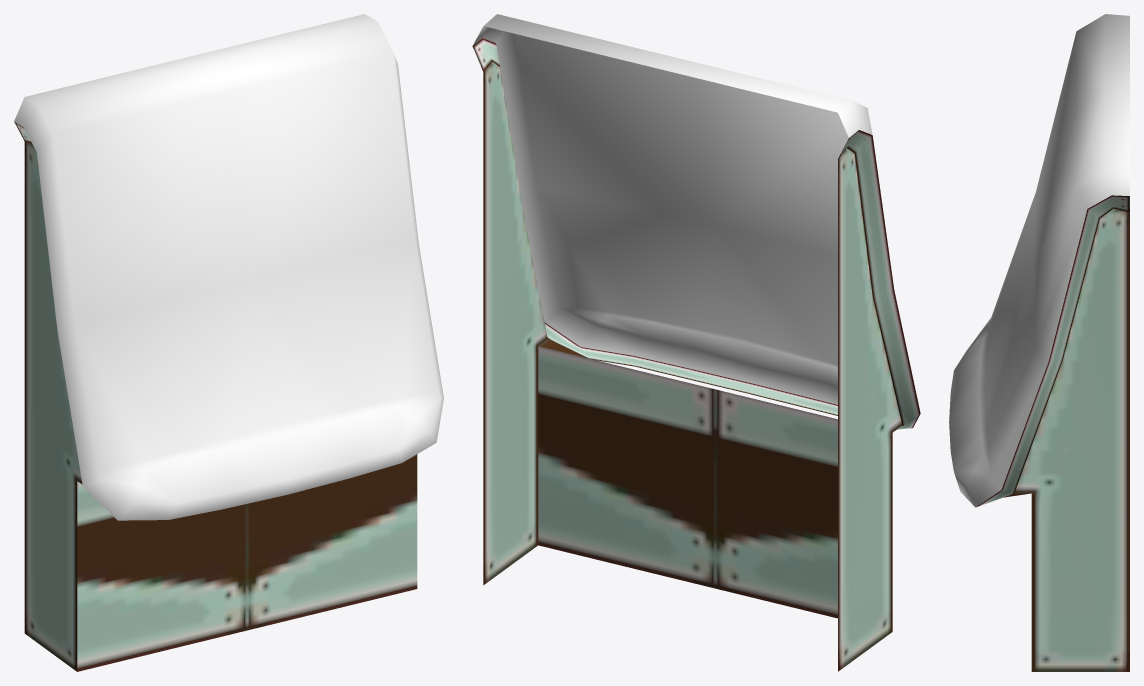
File: HouseParts_roof.dae
3 views of the same model, side by side, from view 1: azimuth 30°, elevation 25°; view 2: azimuth 150°, elevation 25°; view 3: azimuth 270°, elevation 25° (orthographic). The views are drawn at different scales.
Visible parts, largest first — view 1: HouseParts_roof; view 2: HouseParts_roof; view 3: HouseParts_roof.
Boxes of the visible parts, <box> form: HouseParts_roof: <box>14,14,443,671</box>; HouseParts_roof: <box>472,14,920,671</box>; HouseParts_roof: <box>949,14,1129,671</box>.
Size of the model in its own units: 59.5 by 84.77 by 27.61.
Materials: 2 (1 with a texture image).
